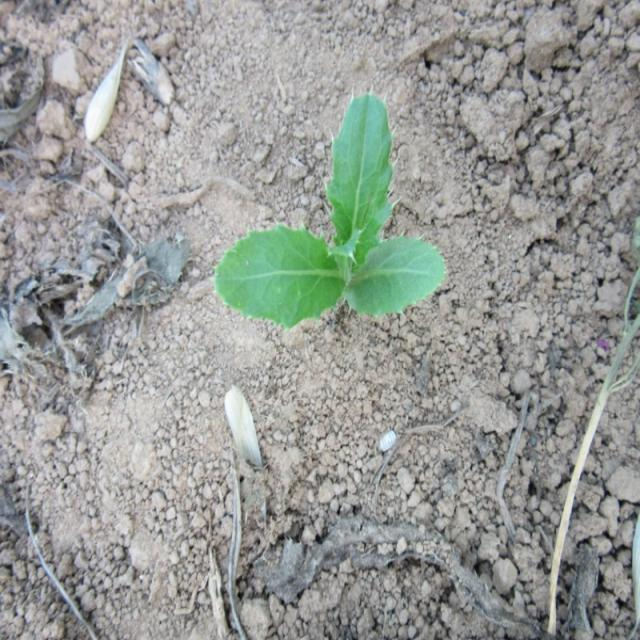cs: (210, 91, 452, 330)
